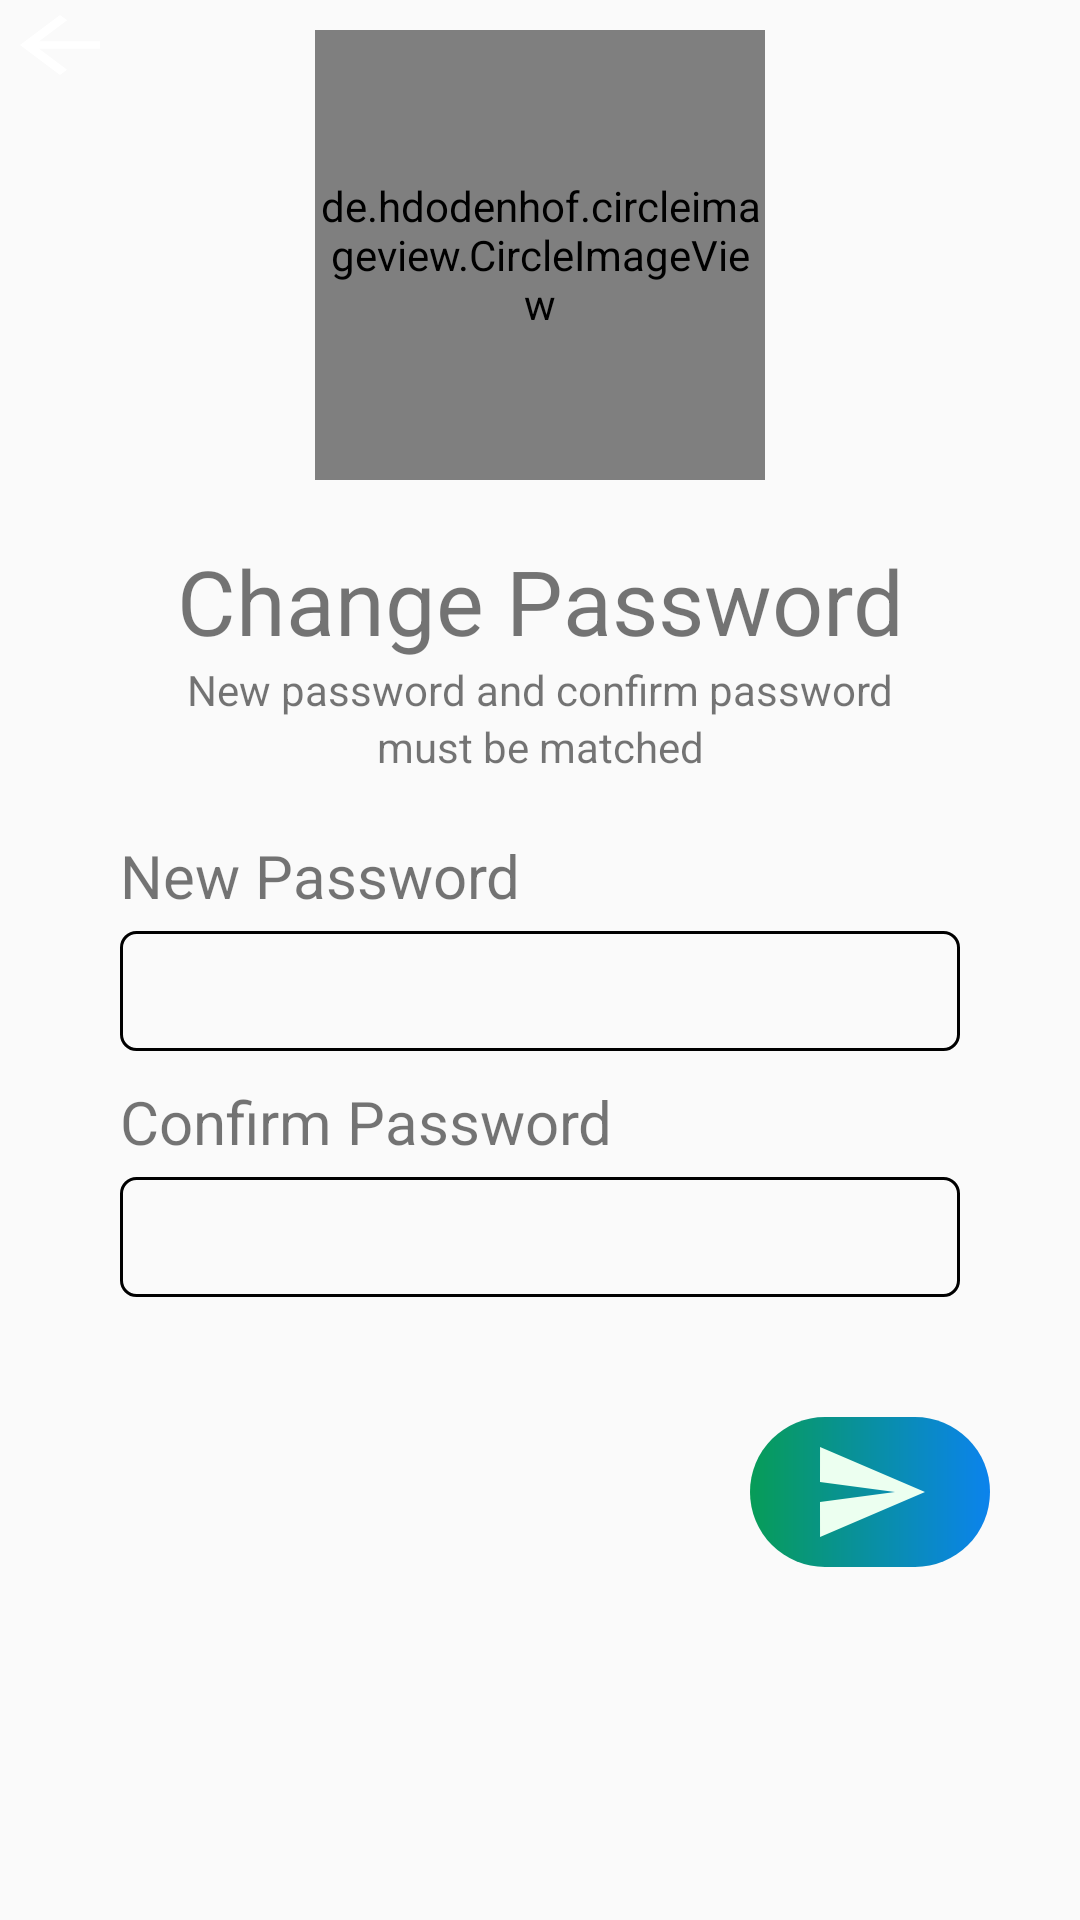

Icon bounding boxes for this 1080px x 1920px phone screenshot, format [x1=x1, y1=y1, x2=x2, y2=y2]:
send: [x1=750, y1=1417, x2=990, y2=1567]
